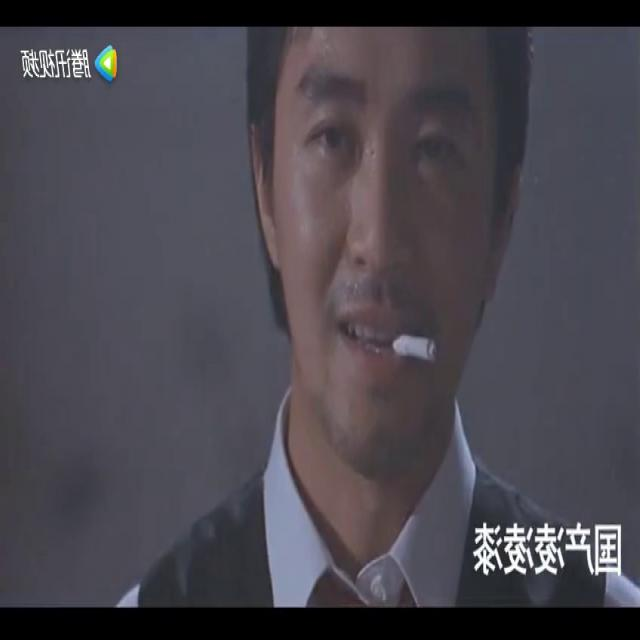smoking: (392, 316, 438, 372)
